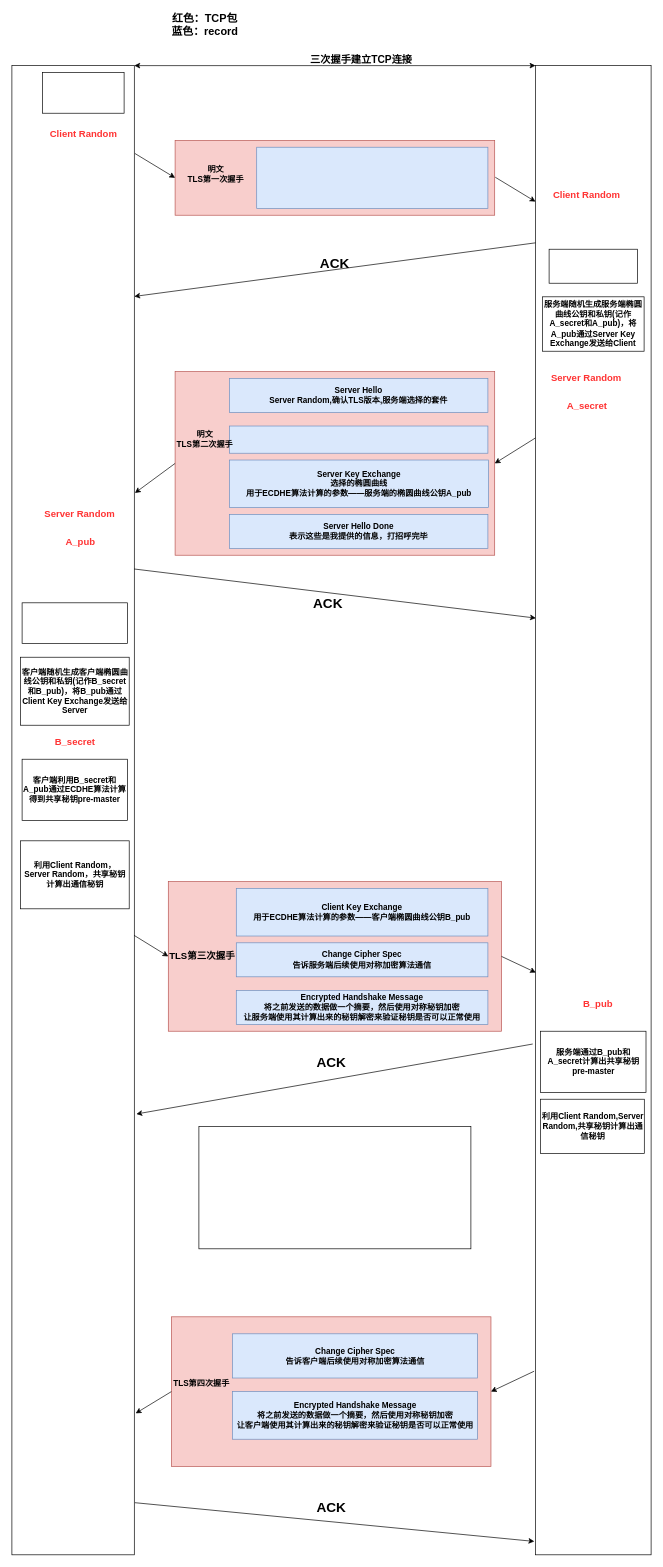
The diagram is 663 pixels wide and 1567 high, and some of its shapes have lost their labels. Each missing label, with the centre of its shape:
Certificate Server的证书: the point at 358,439
Client Hello Client Random,客户端的TLS版本号,客户端支持的密码套件: the point at 372,177
Client生成随机数Client Random: the point at 83,92
ECHDE握手有抢跑行为 第三次TLS握手后，Client 与Server就可以开始使用秘钥进行通信了，不需要等待第四次TLS握手结束: the point at 334,1187
客户端校验证书是否合法: the point at 74,623
服务端生成随机数Server Random: the point at 593,266
